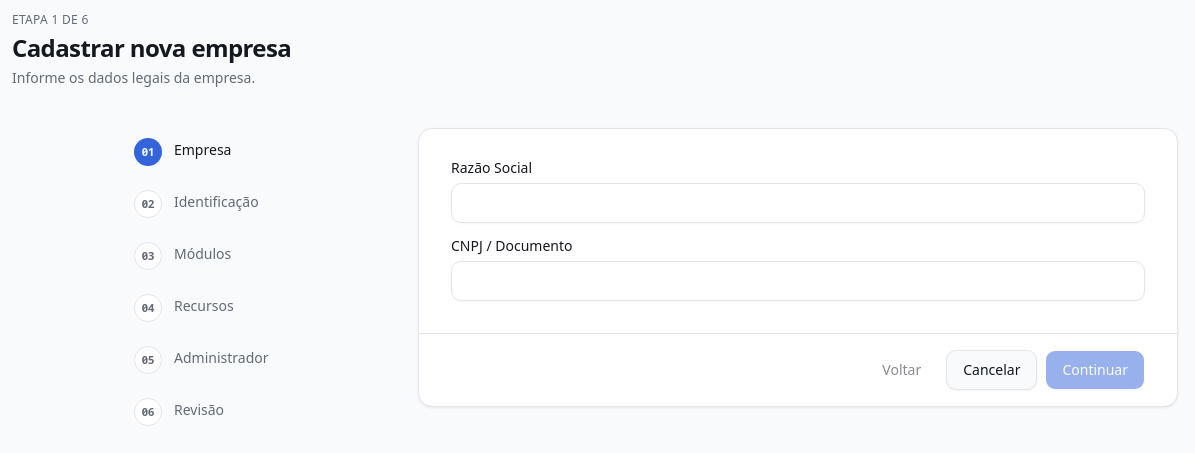
Test: TenantOnboardingWizard › starts with Continuar disabled and shows legalNameMin after touch
Expected: the button "Continuar" is disabled, [1045,350,1145,390]
Expected: the button "Cancelar" is enabled, [946,350,1037,390]
Click the field labelled "Razão Social": point(798, 203) [451,183,1145,223]
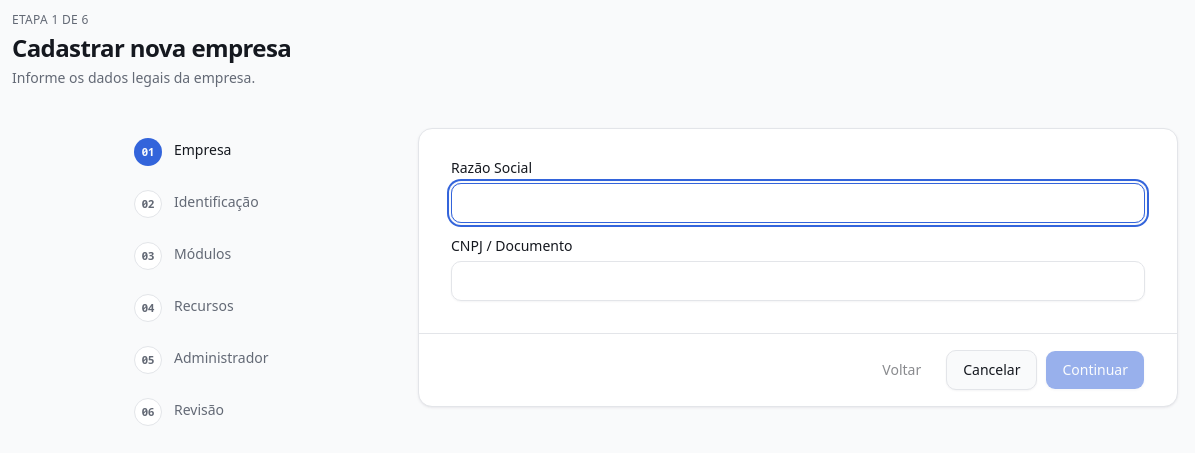
Press Tab
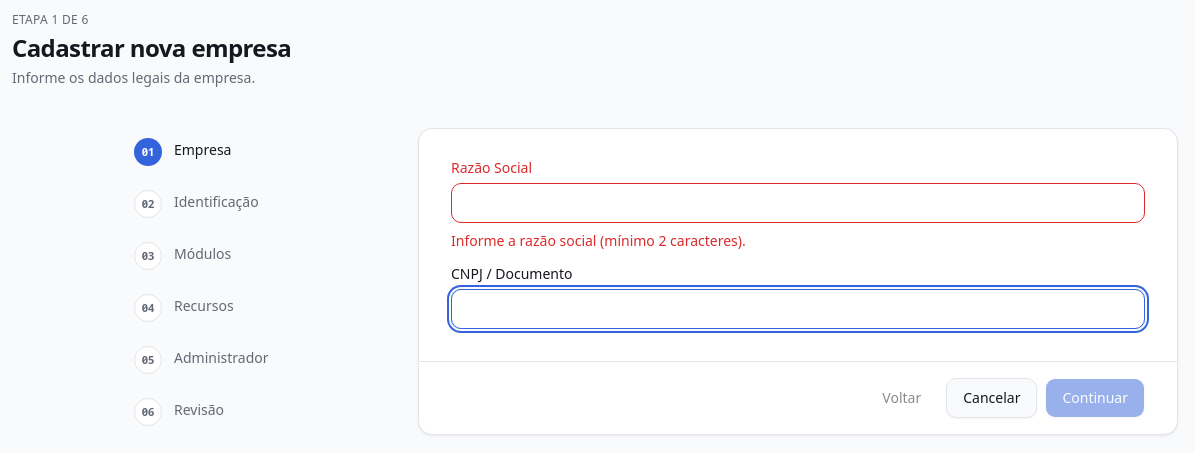
Expected: the button "Continuar" is disabled, [1045,378,1145,418]
Expected: the text "Informe a razão social (mínimo 2 caracteres)." is shown, [451,231,746,250]
